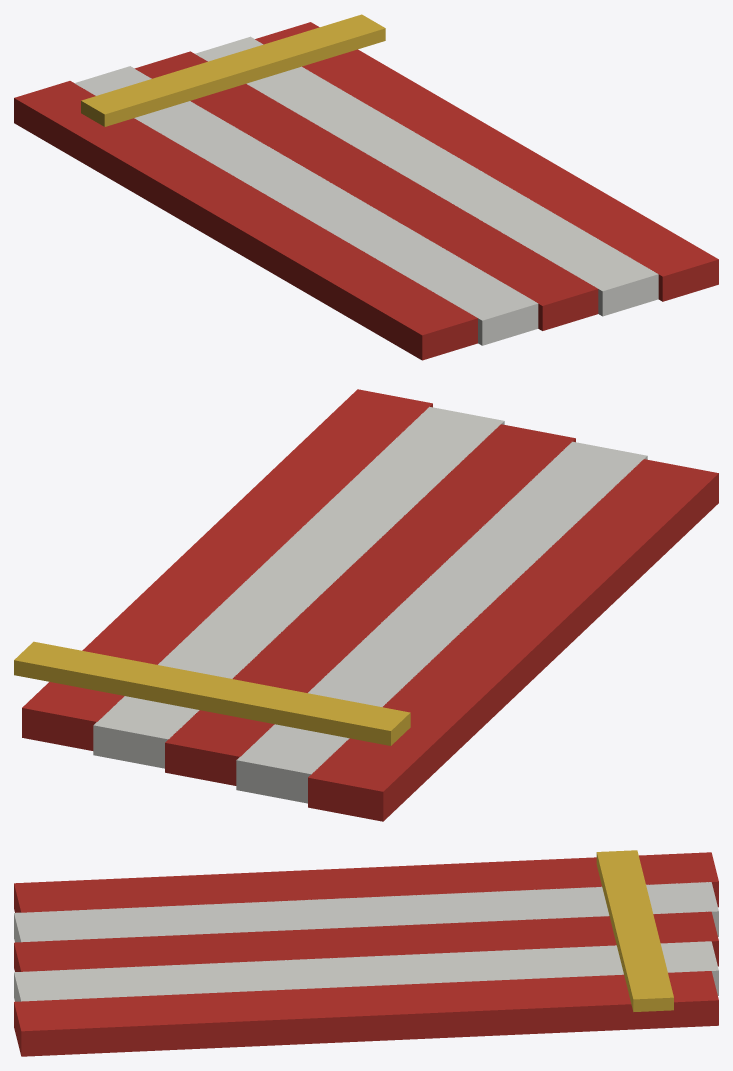
Rendered from Scatter_Towel.fbx.
The picture shows the model from 3 angles, top to bottom: view 1: azimuth 30°, elevation 25°; view 2: azimuth 150°, elevation 25°; view 3: azimuth 270°, elevation 25°; orthographic projection. The views are drawn at different scales.
Visible parts, largest first — view 1: Towel; view 2: Towel; view 3: Towel.
Boxes of the visible parts, x1,y1,x2,y2 form: Towel: (14, 14, 718, 360); Towel: (14, 389, 718, 821); Towel: (14, 850, 718, 1056).
Bounding box in the file's own units: 3.62 × 0.4 × 6.03.
